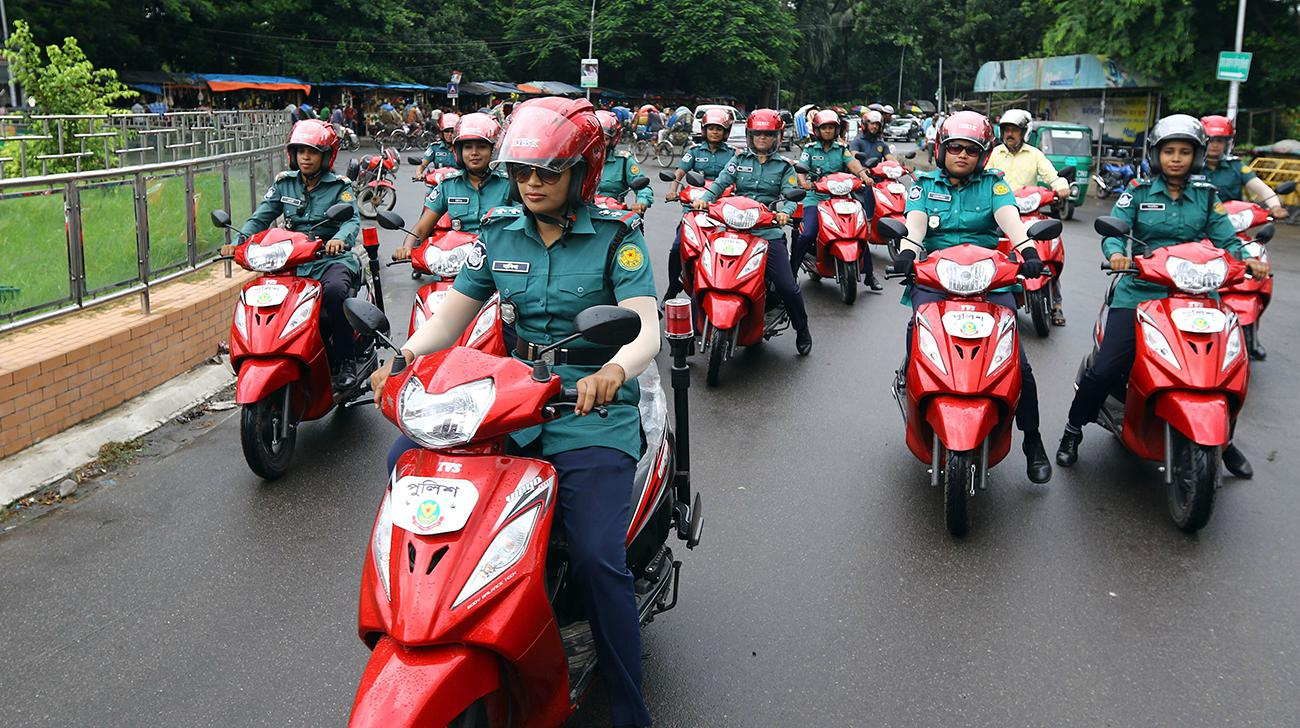car: (882, 118, 921, 142)
motorbike: (345, 143, 400, 219), (1092, 149, 1152, 198)
rickshaw: (285, 101, 361, 151), (635, 105, 693, 167), (381, 102, 436, 150), (628, 101, 658, 154), (614, 106, 633, 142)
scooter: (329, 295, 705, 728), (877, 211, 1066, 537), (1091, 213, 1279, 532), (206, 205, 387, 480), (687, 170, 806, 391), (375, 202, 531, 356), (1215, 178, 1293, 364), (799, 156, 884, 309), (1010, 165, 1077, 340), (863, 147, 915, 276), (658, 165, 711, 291), (406, 149, 462, 201)
three wheelers (CNG): (1028, 119, 1093, 220)
